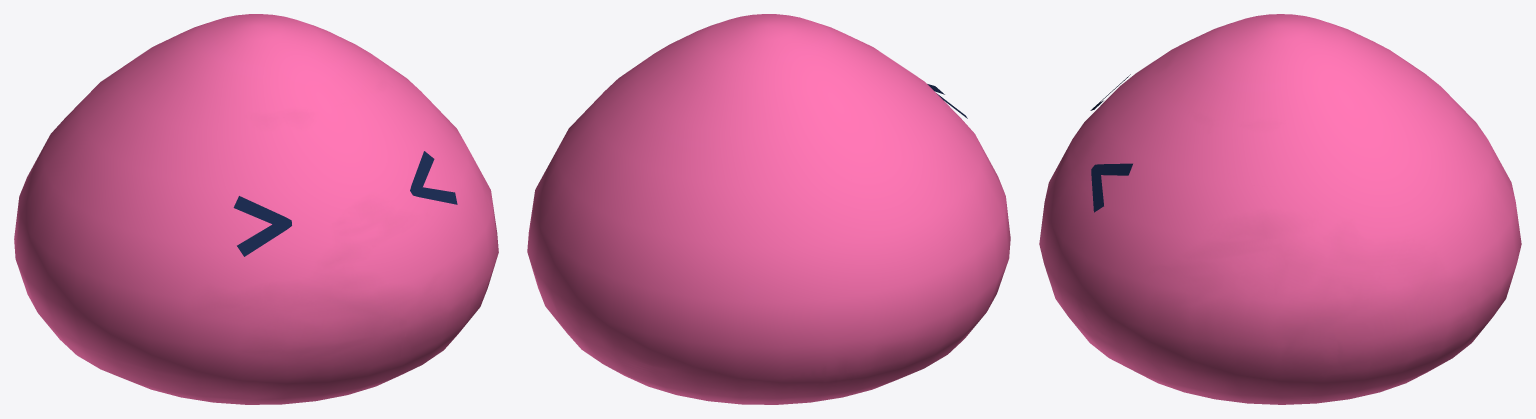
Rendered from slime_pink_hurt.gltf.
3 views of the same model, side by side, from view 1: azimuth 30°, elevation 25°; view 2: azimuth 150°, elevation 25°; view 3: azimuth 270°, elevation 25° (orthographic).
Parts seen in each view (by area): view 1: Slime_Slime_0; view 2: Slime_Slime_0; view 3: Slime_Slime_0.
Part boxes in pixels (x1,y1,x2,y2): Slime_Slime_0: (14, 14, 498, 404); Slime_Slime_0: (527, 14, 1010, 404); Slime_Slime_0: (1039, 14, 1521, 404).
Size of the model in its own units: 1.03 by 0.7421 by 1.03.
2 materials, 1 textured.
